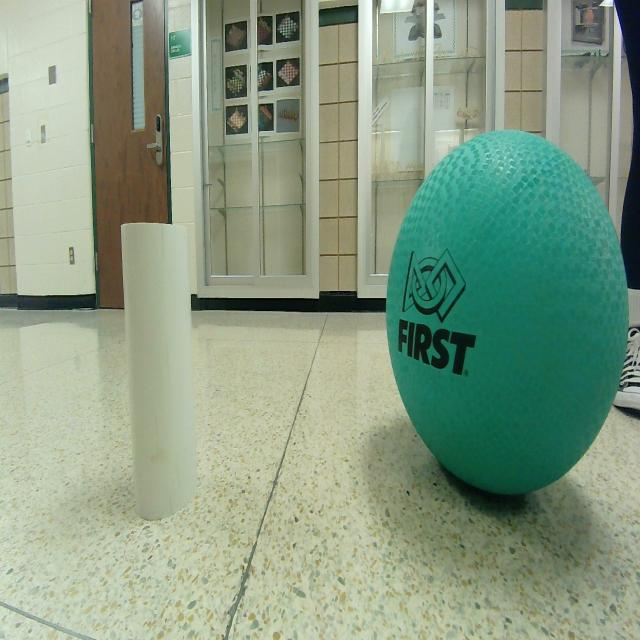algae: (386, 130, 628, 495)
coral: (121, 222, 197, 520)
